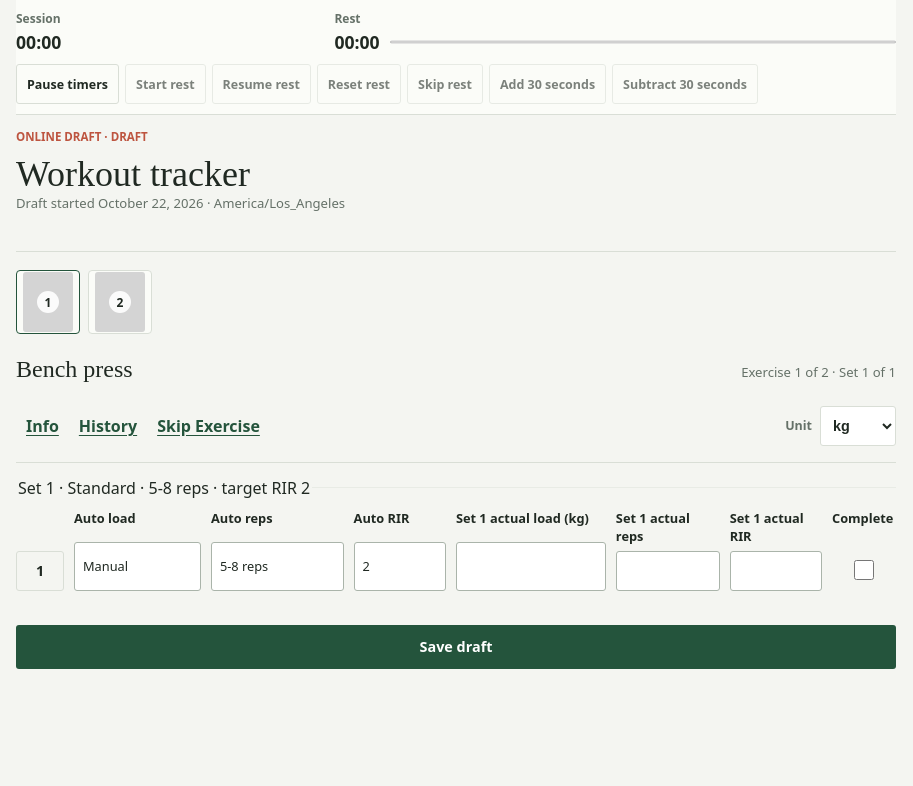
Test case: marks an exercise skipped and saves its state without removing later navigation
expect the heading "Bench press" is shown: met, box 16,356 -> 133,383
Click the button "Skip Exercise" at (208, 426), box 155,412 -> 262,440
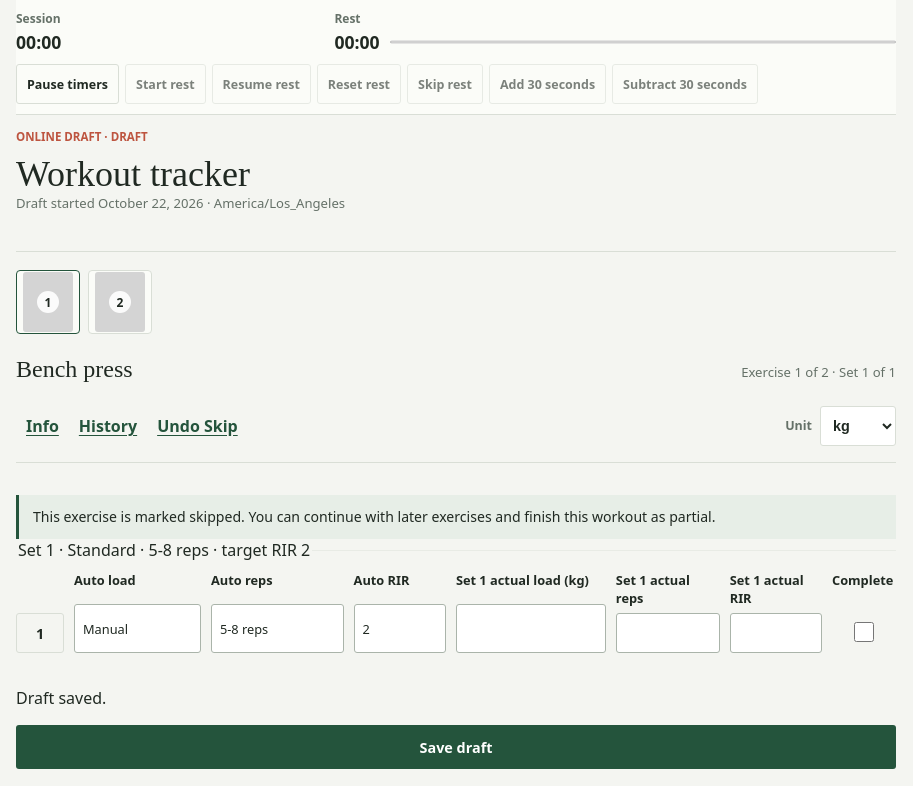
expect the text "finish this workout as partial" is shown: met, box 33,507 -> 716,526
